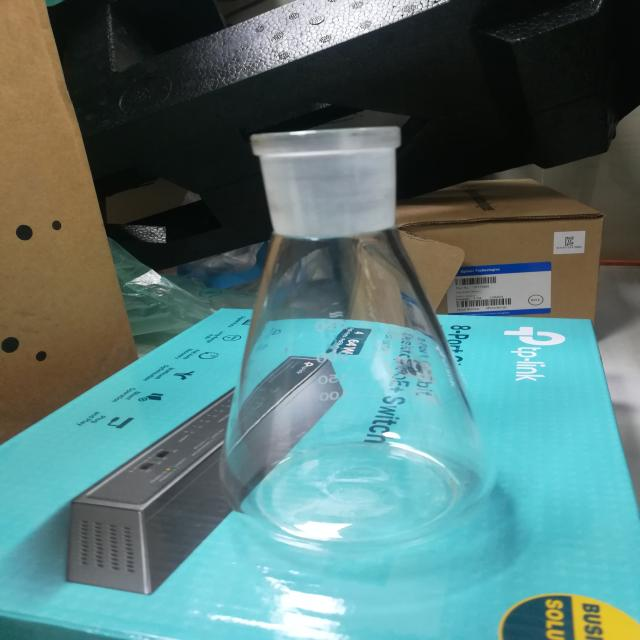Conical_Flask: (168, 94, 526, 577)
